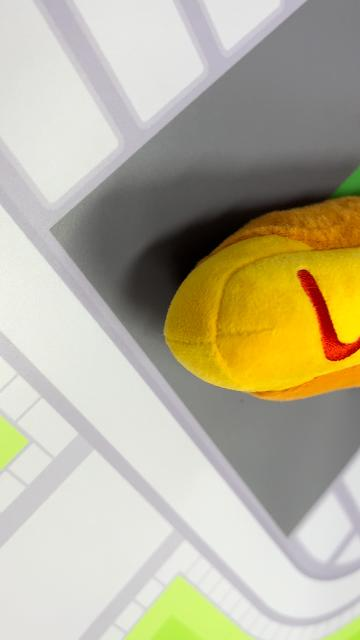hotdog: (162, 193, 360, 403)
